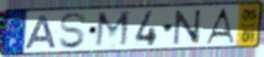4: (133, 9, 160, 48)
A: (24, 14, 59, 50), (203, 7, 236, 45)
M: (92, 10, 132, 50)
N: (173, 9, 203, 46)
S: (57, 12, 89, 51)
